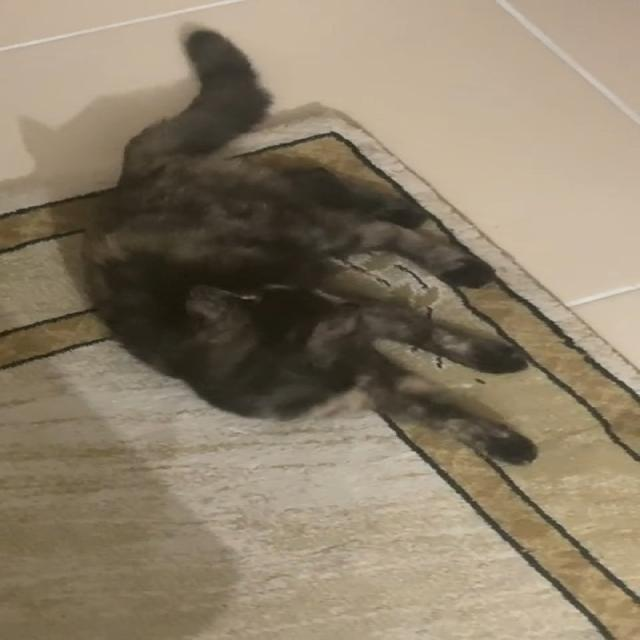authorized: (79, 21, 538, 467)
